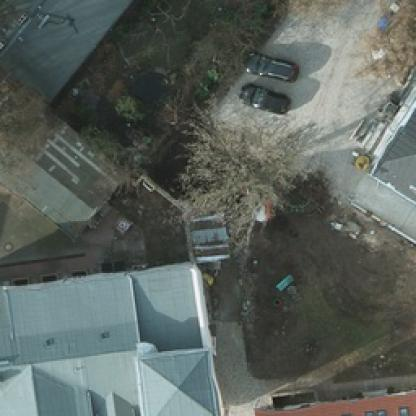car: (238, 81, 289, 117), (244, 50, 296, 82)
